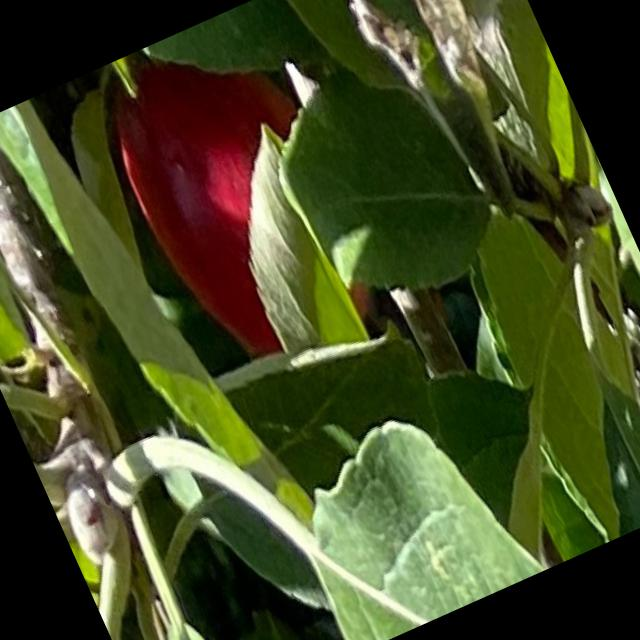Apples: (90, 12, 384, 376)
